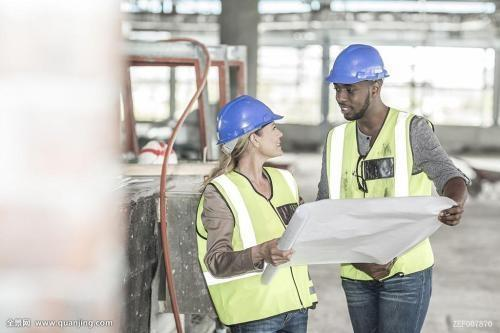helmet: (323, 38, 406, 97), (208, 94, 286, 152)
person: (315, 37, 442, 327), (193, 91, 317, 332)
vest: (319, 116, 438, 280), (199, 167, 315, 331)
